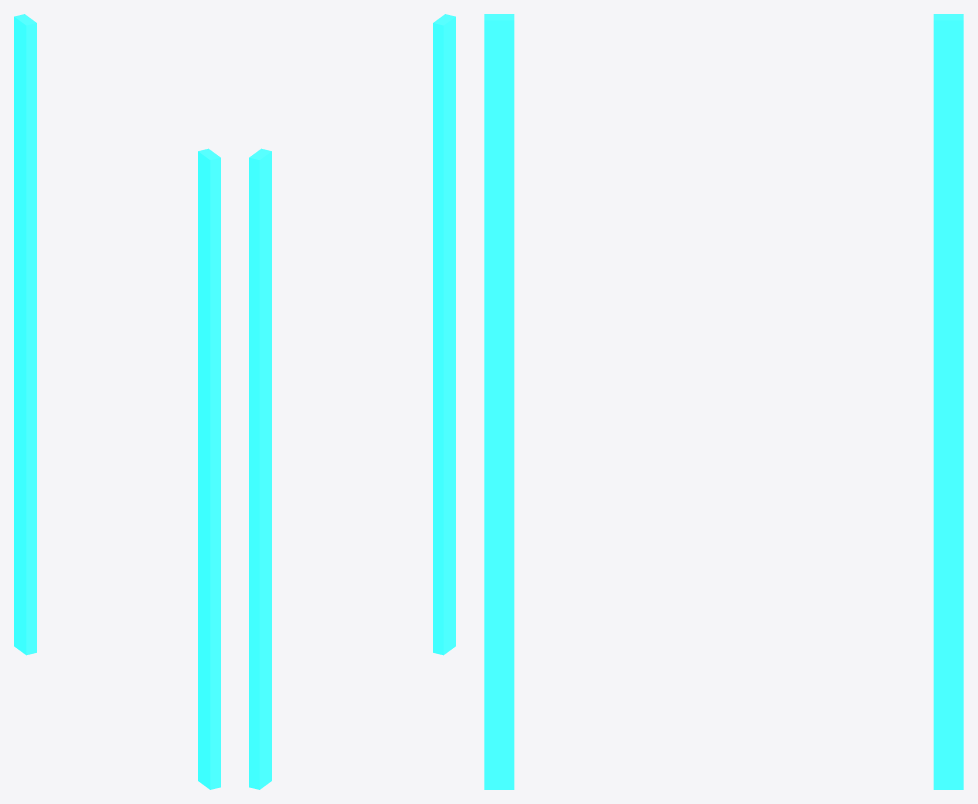
File: Utility_CargoContainer_6m_SealEmitters.glb
3 views of the same model, side by side, from view 1: azimuth 30°, elevation 25°; view 2: azimuth 150°, elevation 25°; view 3: azimuth 270°, elevation 25° (orthographic). The views are drawn at different scales.
Visible parts, largest first — view 1: Utility_CargoContainer_6m_SealEmitters; view 2: Utility_CargoContainer_6m_SealEmitters; view 3: Utility_CargoContainer_6m_SealEmitters.
Boxes of the visible parts, left/top/right/bottom form: Utility_CargoContainer_6m_SealEmitters: left=14, top=14, right=220, bottom=789; Utility_CargoContainer_6m_SealEmitters: left=249, top=14, right=455, bottom=789; Utility_CargoContainer_6m_SealEmitters: left=484, top=14, right=963, bottom=789.
Size of the model in its own units: 0.03 by 1.7 by 0.96.
